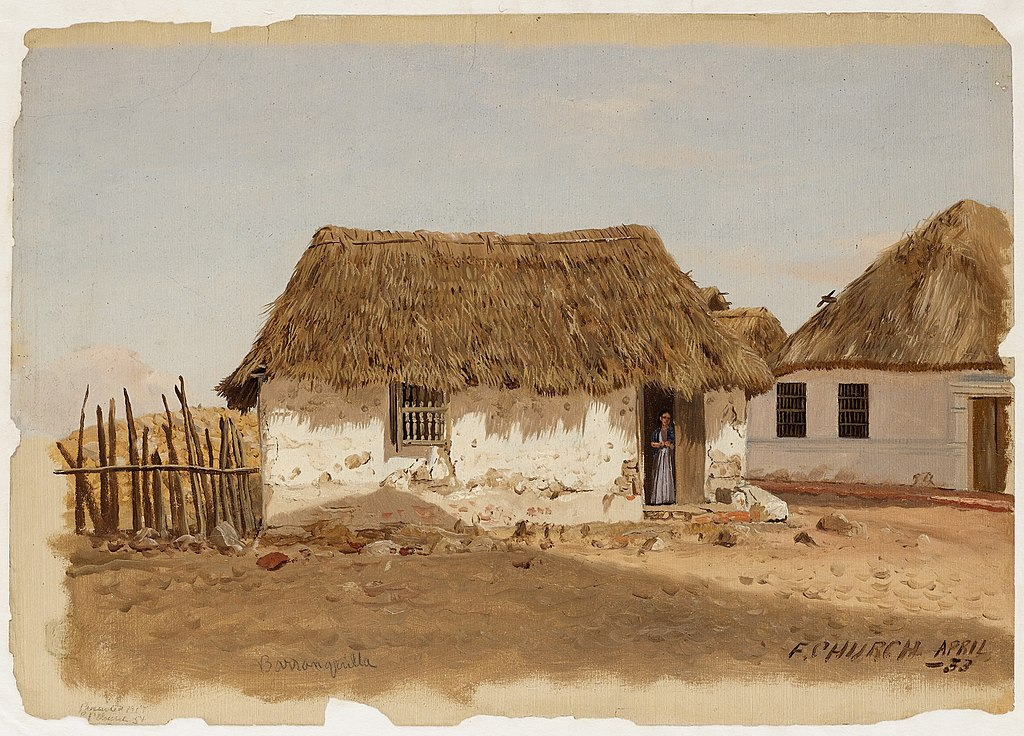House: (243, 196, 782, 544), (757, 136, 1010, 507)
